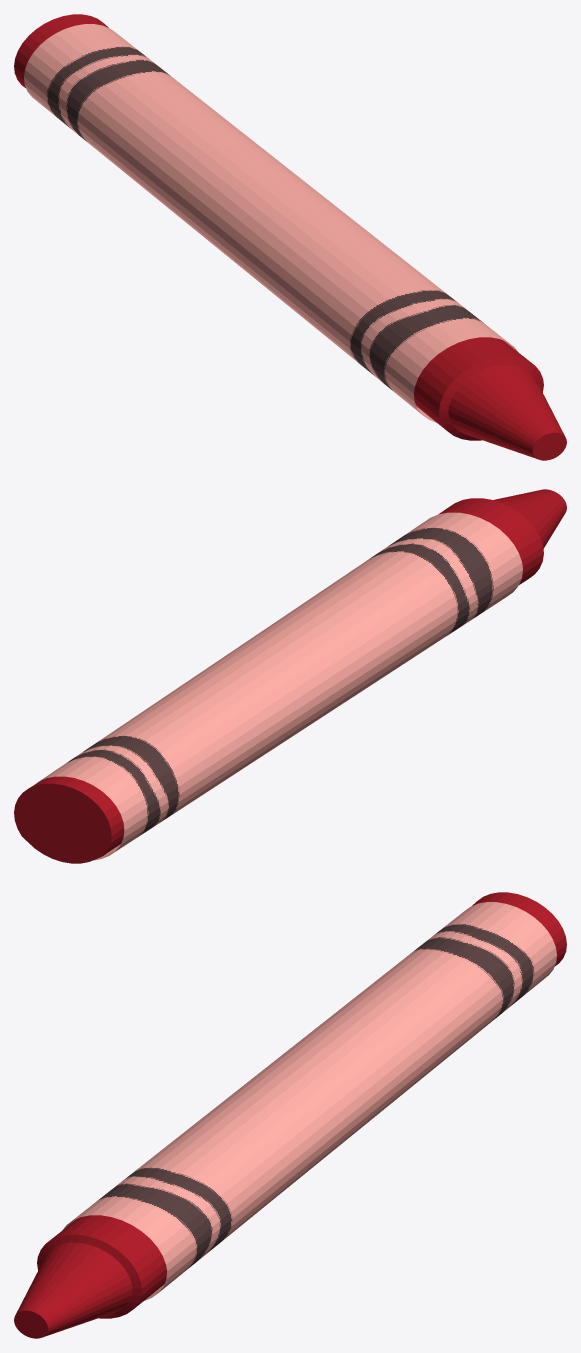
File: crayon.gltf
3 renders of one model, top to bottom at view 1: azimuth 30°, elevation 25°; view 2: azimuth 150°, elevation 25°; view 3: azimuth 330°, elevation 25°, orthographic.
Visible parts, largest first — view 1: wrapper; view 2: wrapper; view 3: wrapper.
Part boxes in pixels (bbox=[...]): wrapper: bbox=[14, 14, 566, 460]; wrapper: bbox=[14, 489, 566, 863]; wrapper: bbox=[14, 892, 566, 1338].
Size of the model in its own units: 0.7215 by 0.7014 by 5.58.
Materials: 2 (1 with a texture image).
